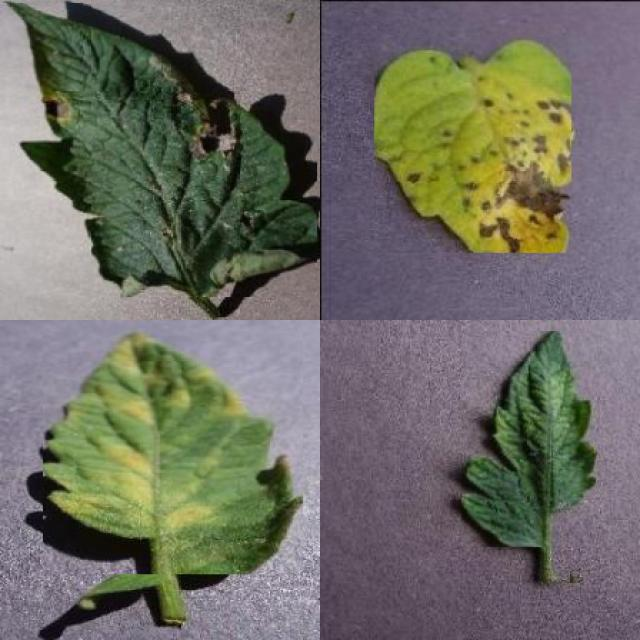Early Blight: (2, 2, 318, 298)
Leaf Mold: (43, 332, 303, 574)
Mosaic Virus: (461, 330, 596, 547)
Septoria: (375, 37, 572, 253)
